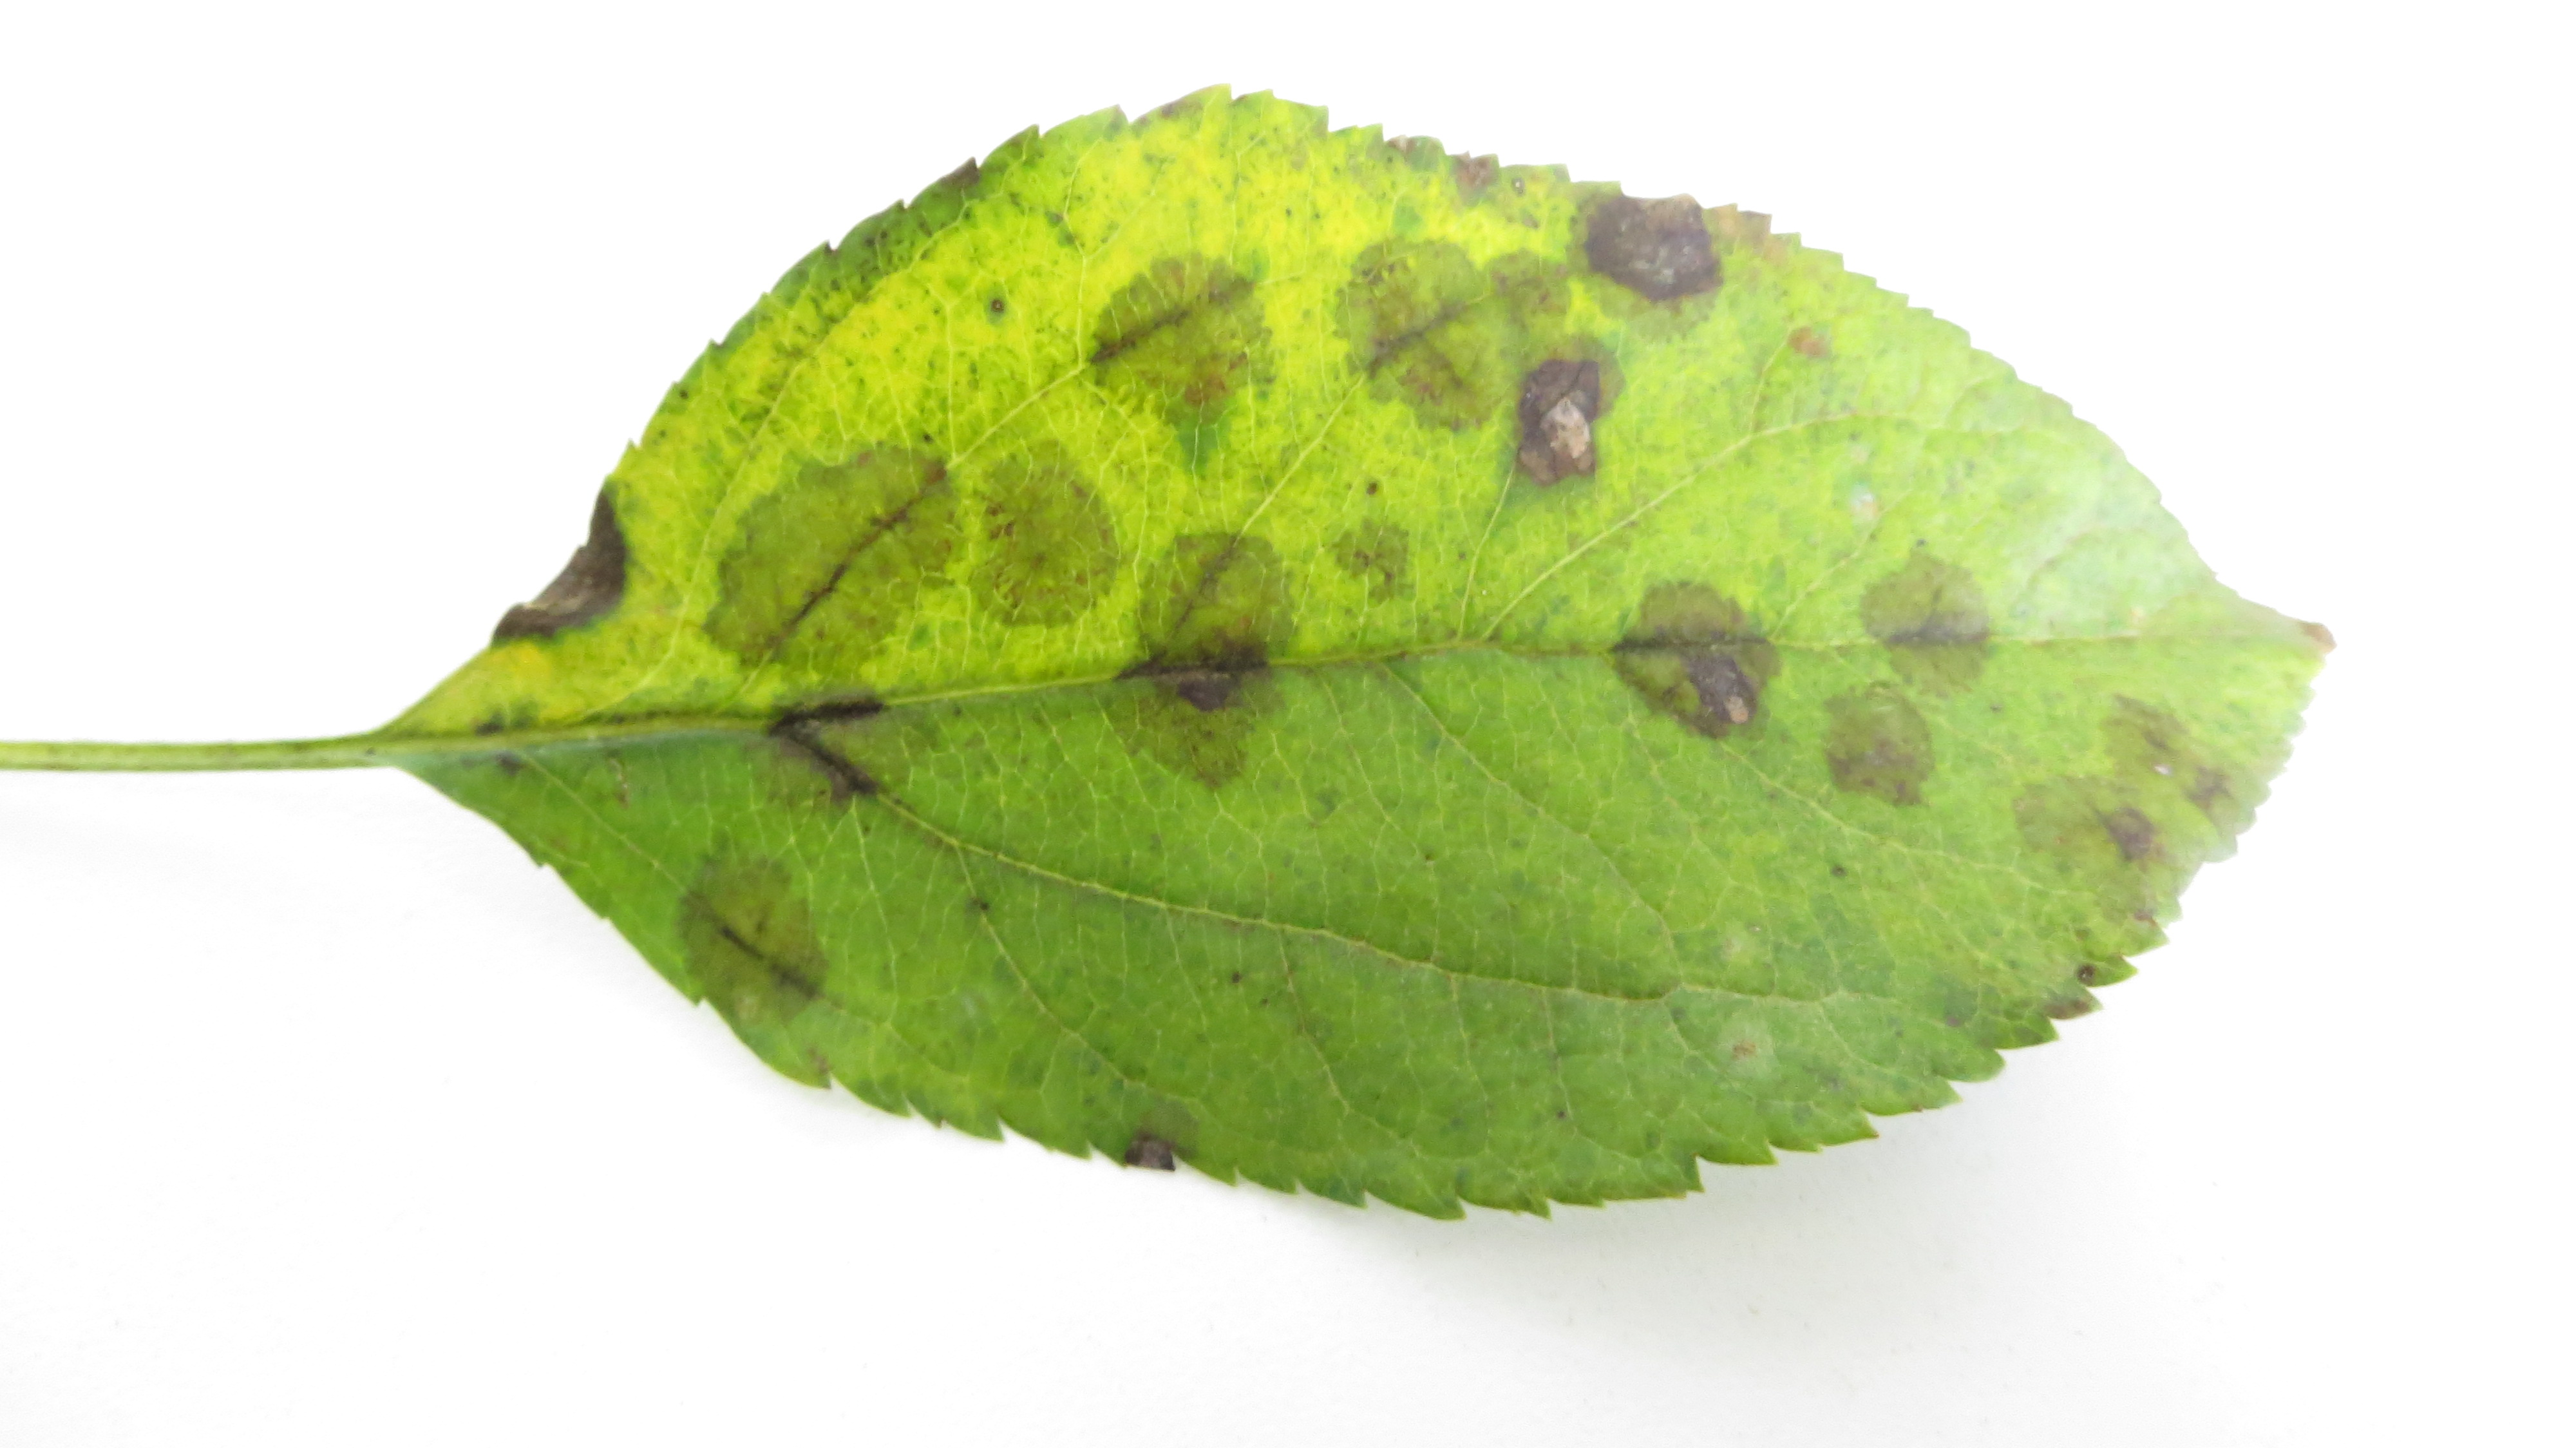sarna: (701, 439, 959, 669), (1109, 536, 1297, 781), (1330, 239, 1518, 439), (1081, 255, 1269, 451), (957, 430, 1122, 639), (672, 834, 828, 1036), (1619, 582, 1782, 751), (2005, 763, 2162, 926), (1566, 182, 1729, 329), (1854, 543, 2013, 690), (504, 481, 632, 641), (1502, 331, 1631, 485), (1798, 676, 1934, 804), (752, 728, 883, 823), (761, 666, 908, 747), (1325, 508, 1421, 614), (1491, 235, 1589, 338), (1102, 1087, 1194, 1175), (2095, 687, 2192, 768), (2051, 940, 2123, 1039), (2158, 752, 2245, 834), (2279, 591, 2342, 667), (1776, 310, 1842, 379)
